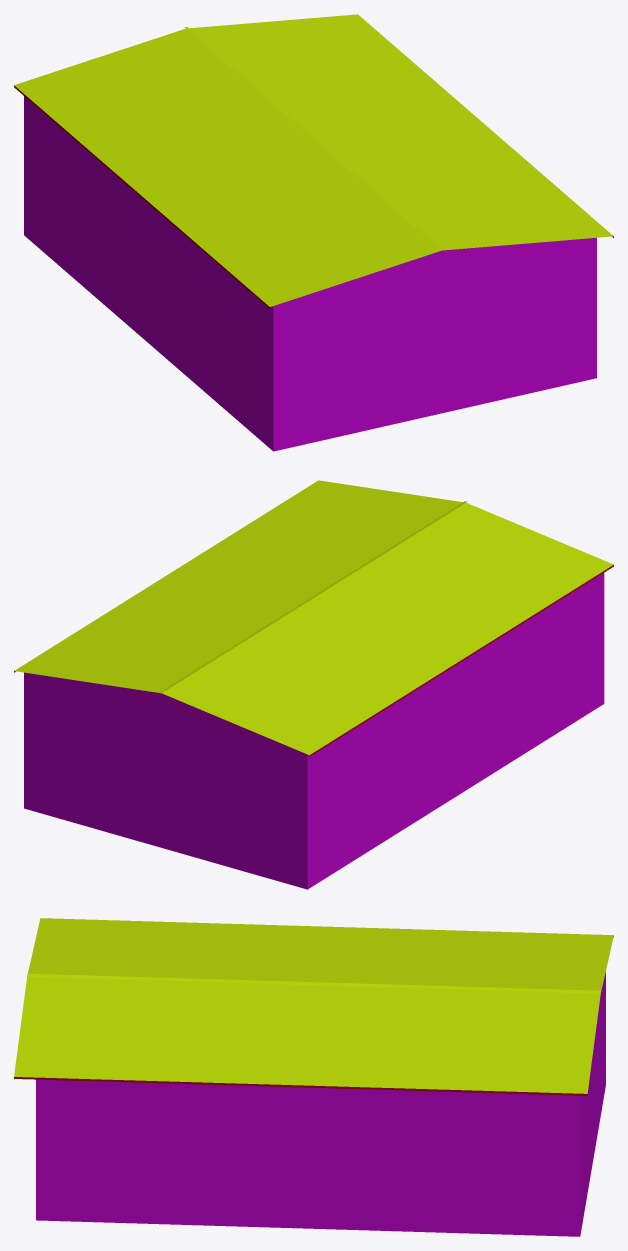
Rendered from hangar_ferme_9.glb.
3 renders of one model, top to bottom at view 1: azimuth 30°, elevation 25°; view 2: azimuth 150°, elevation 25°; view 3: azimuth 270°, elevation 25°, orthographic. The views are drawn at different scales.
Parts seen in each view (by area): view 1: hangar_ferme_9; view 2: hangar_ferme_9; view 3: hangar_ferme_9.
Boxes of the visible parts, box(x1,y1,x2,y2) form: hangar_ferme_9: box(14, 14, 613, 451); hangar_ferme_9: box(14, 480, 613, 889); hangar_ferme_9: box(14, 918, 613, 1236).
Bounding box in the file's own units: 22.53 × 10.11 × 32.5.
